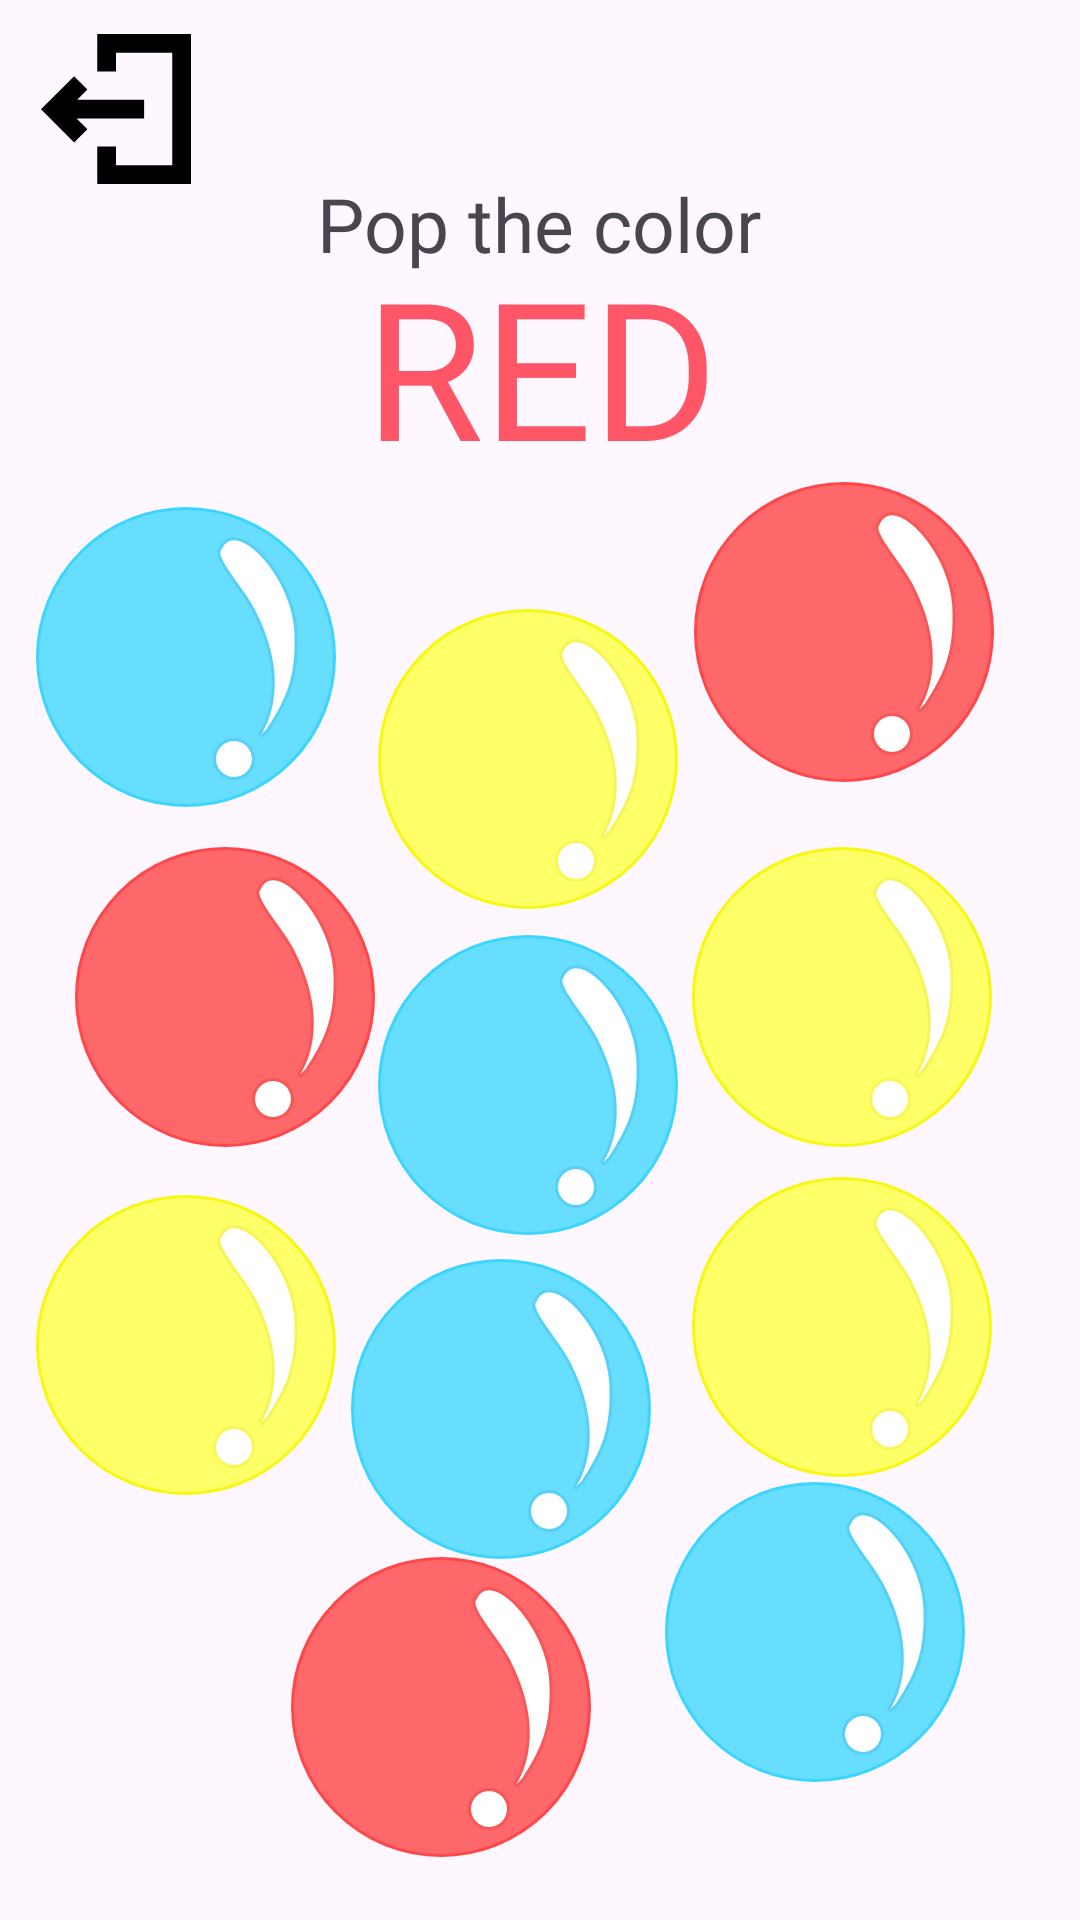

Icons on this 1080px x 1920px Android screen, each with the point to tap as (x=x, y=y):
bblred: (x=844, y=632), (x=225, y=997), (x=441, y=1707)
bblyelo: (x=528, y=759), (x=842, y=997), (x=842, y=1327), (x=186, y=1345)
exit: (x=116, y=109)
